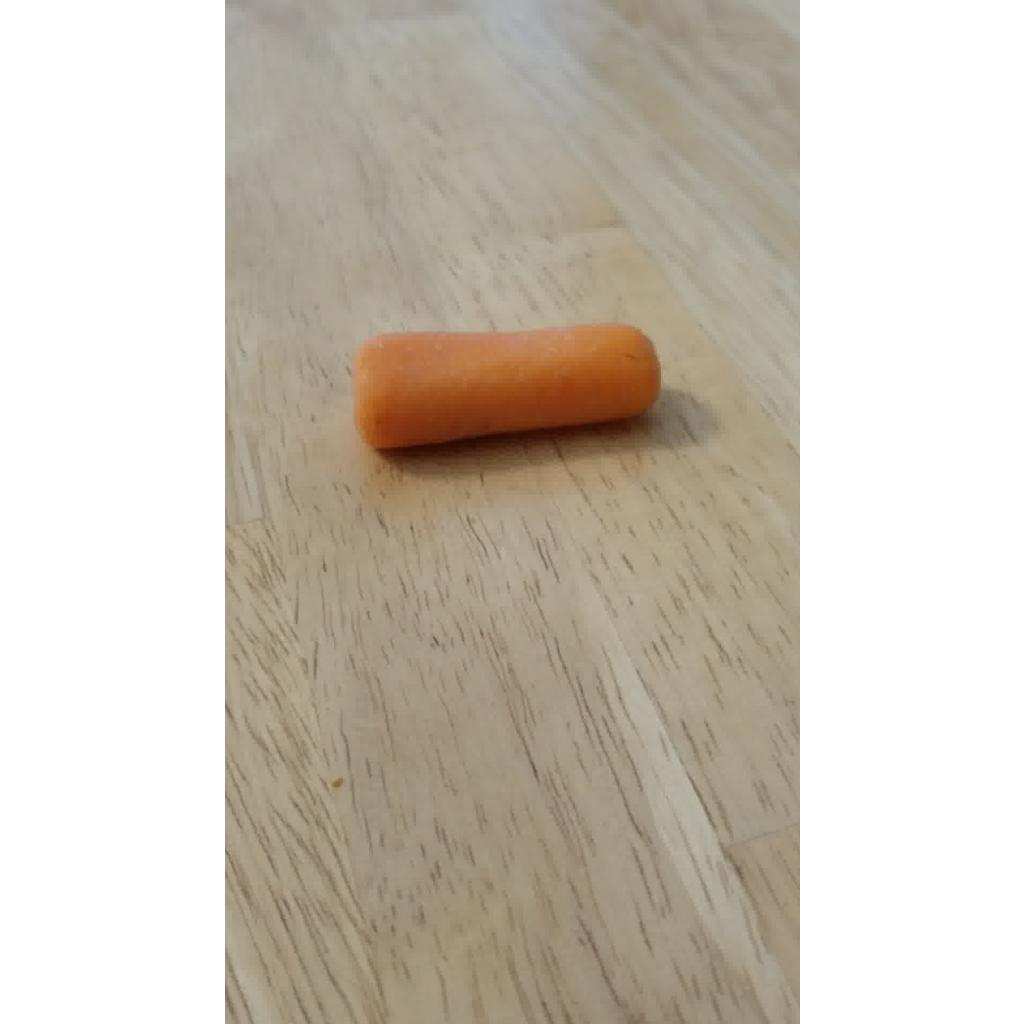carrot: (354, 324, 660, 448)
